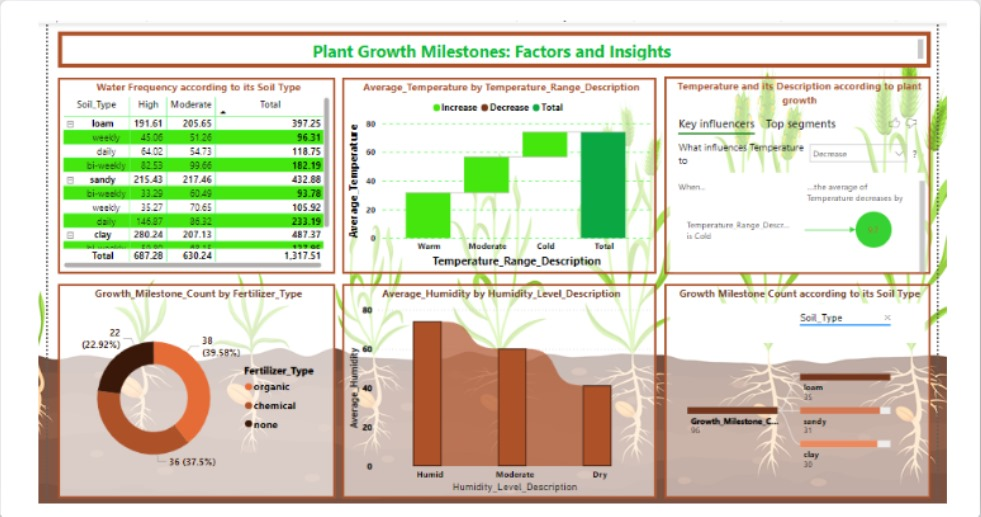

The dashboard page shown, as its layout file describes it:
{"tool":"powerbi","page":{"name":"Page 1","canvas":[1280,720],"ordinal":0},"visuals":[{"type":"columnChart","fields":{"Y":["plant_growth_data.Average_Temperature"],"Category":["plant_growth_data.Fertilizer_Type"]},"box":[828.2,192.4,359.2,181],"z":0},{"type":"textbox","box":[10,632.9,280,87.1],"z":1000},{"type":"textbox","box":[181.4,18.6,967.1,85.7],"z":2000},{"type":"clusteredBarChart","fields":{"Y":["plant_growth_data.Average_Temperature"],"Series":["plant_growth_data.Temperature_Range_Description"]},"box":[369.2,192.4,413.4,253.7],"z":3000},{"type":"pivotTable","fields":{"Rows":["plant_growth_data.Soil_Type","plant_growth_data.Temperature_Range_Description"],"Values":["Sum(plant_growth_data.Water_Frequency_Numeric)"],"Columns":["plant_growth_data.Water_Frequency"]},"box":[22.8,253.7,316.4,182.4],"z":4000},{"type":"textbox","box":[10,182.4,359.2,71.3],"z":5000},{"type":"pieChart","fields":{"Category":["plant_growth_data.Fertilizer_Type"],"Y":["plant_growth_data.Growth_Milestone_Count"]},"box":[0,457.1,381.4,228.6],"z":6000},{"type":"clusteredColumnChart","fields":{"Category":["plant_growth_data.Humidity_Level_Description"],"Y":["plant_growth_data.Average_Humidity"]},"box":[369.2,469,413.4,233.8],"z":7000},{"type":"decompositionTreeVisual","fields":{"Analyze":["plant_growth_data.Growth_Milestone_Count"],"ExplainBy":["plant_growth_data.Soil_Type"]},"box":[828.2,469,359.2,216.7],"z":8000},{"type":"textbox","box":[828.6,387.1,378.6,70],"z":9000},{"type":"card","fields":{"Values":["plant_growth_data.Average_Humidity"]},"box":[436.2,75.5,300.8,116.9],"z":9001},{"type":"card","fields":{"Values":["plant_growth_data.Average_Temperature"]},"box":[828.2,75.5,300.8,116.9],"z":9002},{"type":"card","fields":{"Values":["plant_growth_data.Average_Sunlight_Hours"]},"box":[41.3,85.5,225.2,106.9],"z":9003}]}

Visuals, with their boxes on the page's 1280x720 design canvas (x1, y1, x2, y2). These are canvas units, not pixel positions in the 981x517 screenshot, which may show the page scaled, cropped or inside an application window:
columnChart - plant_growth_data.Average_Temperature x plant_growth_data.Fertilizer_Type: locate(828, 192, 1187, 373)
textbox: locate(10, 633, 290, 720)
textbox: locate(181, 19, 1148, 104)
clusteredBarChart - plant_growth_data.Average_Temperature x plant_growth_data.Temperature_Range_Description: locate(369, 192, 783, 446)
pivotTable - plant_growth_data.Soil_Type x plant_growth_data.Temperature_Range_Description: locate(23, 254, 339, 436)
textbox: locate(10, 182, 369, 254)
pieChart - plant_growth_data.Fertilizer_Type x plant_growth_data.Growth_Milestone_Count: locate(0, 457, 381, 686)
clusteredColumnChart - plant_growth_data.Humidity_Level_Description x plant_growth_data.Average_Humidity: locate(369, 469, 783, 703)
decompositionTreeVisual - plant_growth_data.Growth_Milestone_Count x plant_growth_data.Soil_Type: locate(828, 469, 1187, 686)
textbox: locate(829, 387, 1207, 457)
card - plant_growth_data.Average_Humidity: locate(436, 76, 737, 192)
card - plant_growth_data.Average_Temperature: locate(828, 76, 1129, 192)
card - plant_growth_data.Average_Sunlight_Hours: locate(41, 86, 266, 192)
